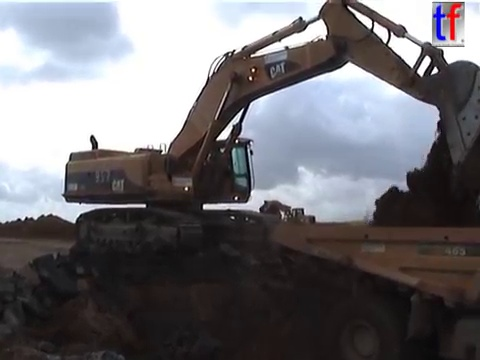excavator: (58, 1, 480, 252)
truck: (265, 220, 480, 360)
wheel loader: (257, 198, 318, 235)
